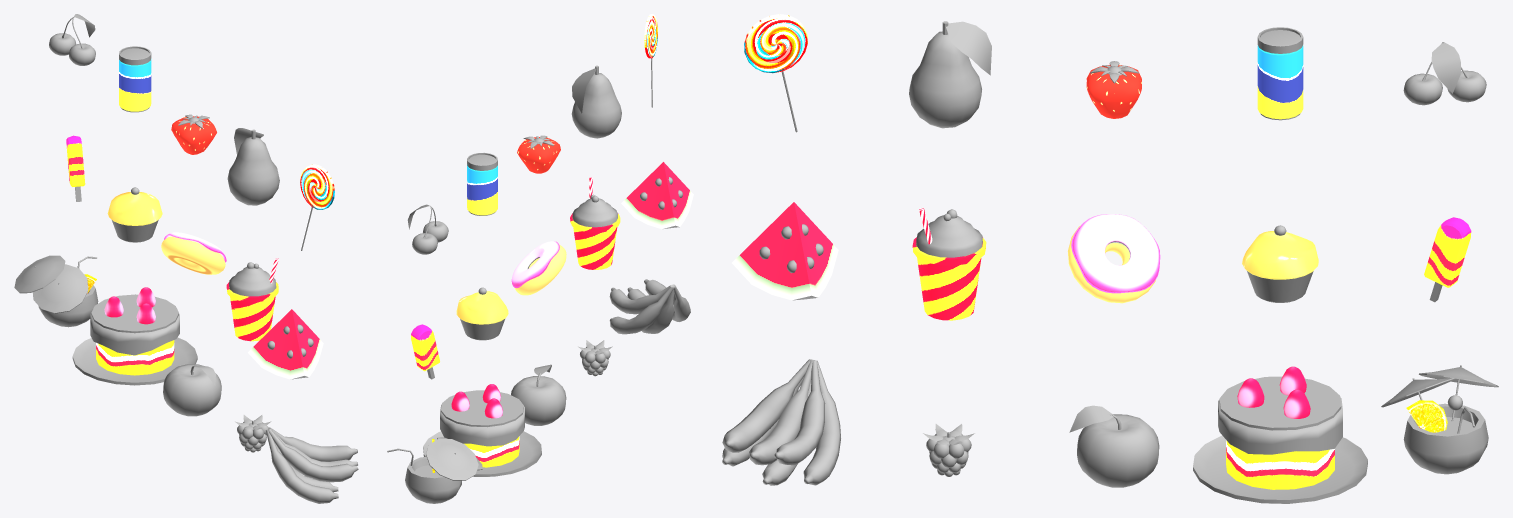
Rendered from yummy_low_poly_pack.fbx.
3 views of the same model, side by side, from view 1: azimuth 30°, elevation 25°; view 2: azimuth 150°, elevation 25°; view 3: azimuth 270°, elevation 25° (orthographic). The views are drawn at different scales.
Visible parts, largest first — view 1: Cake_3, Bananas_21, Watermelon_9, Milkshake_10, Pear_4, Apple_23, Cupcake_11, Can_24, Donut_14, umbrella1_20, Lollipop_2, umbrella_19 (+5 smaller); view 2: Cake_3, Bananas_21, Watermelon_9, Milkshake_10, Pear_4, Apple_23, Cupcake_11, Donut_14, Can_24, umbrella_19, coconut_16, Icecream_8 (+4 smaller); view 3: Cake_3, Bananas_21, Watermelon_9, Donut_14, Pear_4, Milkshake_10, Apple_23, Cupcake_11, Can_24, coconut_16, Lollipop_2, Cherry_1 (+5 smaller).
Boxes of the visible parts, x1,y1,x2,y2 form: Cake_3: (72, 287, 197, 385); Bananas_21: (265, 427, 358, 503); Watermelon_9: (248, 309, 323, 379); Milkshake_10: (226, 258, 278, 341); Pear_4: (227, 128, 279, 205); Apple_23: (163, 364, 221, 416); Cupcake_11: (107, 187, 162, 242); Can_24: (119, 46, 151, 112); Donut_14: (161, 232, 226, 274); umbrella1_20: (32, 264, 88, 313); Lollipop_2: (300, 164, 334, 250); umbrella_19: (14, 255, 65, 293); Cake_3: (423, 384, 541, 476); Bananas_21: (609, 279, 690, 334); Watermelon_9: (621, 162, 693, 229); Milkshake_10: (570, 177, 620, 269); Pear_4: (571, 65, 621, 138); Apple_23: (511, 364, 566, 425); Cupcake_11: (456, 287, 508, 340); Donut_14: (511, 241, 566, 295); Can_24: (467, 152, 497, 215); umbrella_19: (426, 439, 478, 480); coconut_16: (405, 456, 461, 503); Icecream_8: (411, 324, 439, 379); Cake_3: (1193, 366, 1367, 503); Bananas_21: (722, 359, 840, 485); Watermelon_9: (732, 202, 838, 300); Donut_14: (1067, 214, 1160, 303); Pear_4: (909, 21, 991, 128); Milkshake_10: (912, 207, 986, 320); Apple_23: (1069, 405, 1159, 487); Cupcake_11: (1242, 225, 1318, 302); Can_24: (1257, 27, 1303, 120); coconut_16: (1403, 403, 1488, 474); Lollipop_2: (744, 14, 807, 132); Cherry_1: (1403, 42, 1486, 105).
Size of the model in its own units: 1.59 by 4.71 by 7.03.
Materials: 51 (13 with a texture image).
